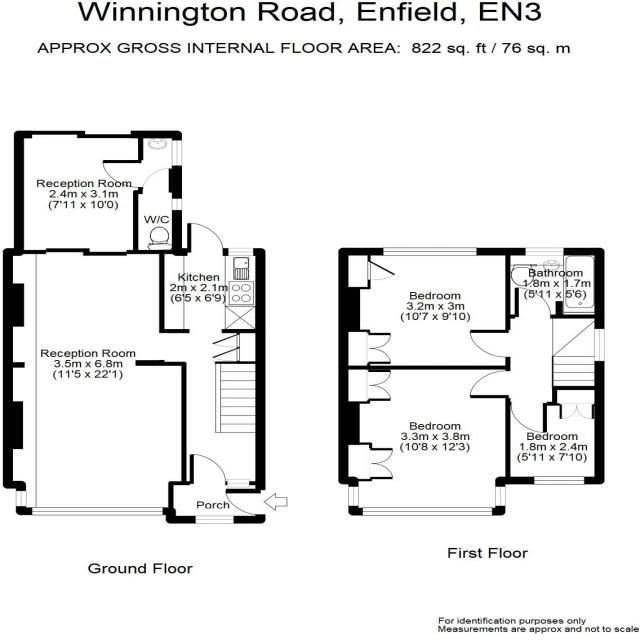DOOR: (186, 222, 224, 256), (510, 401, 548, 434), (513, 287, 552, 319), (468, 329, 511, 358), (101, 159, 144, 188), (469, 370, 511, 399), (189, 454, 227, 486), (224, 488, 265, 516)
ROOM: (2, 248, 187, 515), (338, 365, 511, 516), (338, 247, 511, 370), (14, 130, 144, 256), (159, 222, 266, 333), (505, 386, 605, 485)
WINDOW: (31, 506, 164, 516), (362, 507, 493, 516), (382, 247, 478, 256), (533, 476, 585, 485), (594, 328, 605, 362), (524, 247, 564, 256), (195, 515, 235, 524), (171, 140, 183, 166), (494, 486, 506, 507), (227, 247, 254, 256), (348, 486, 359, 506), (15, 490, 27, 507), (171, 198, 183, 211)
